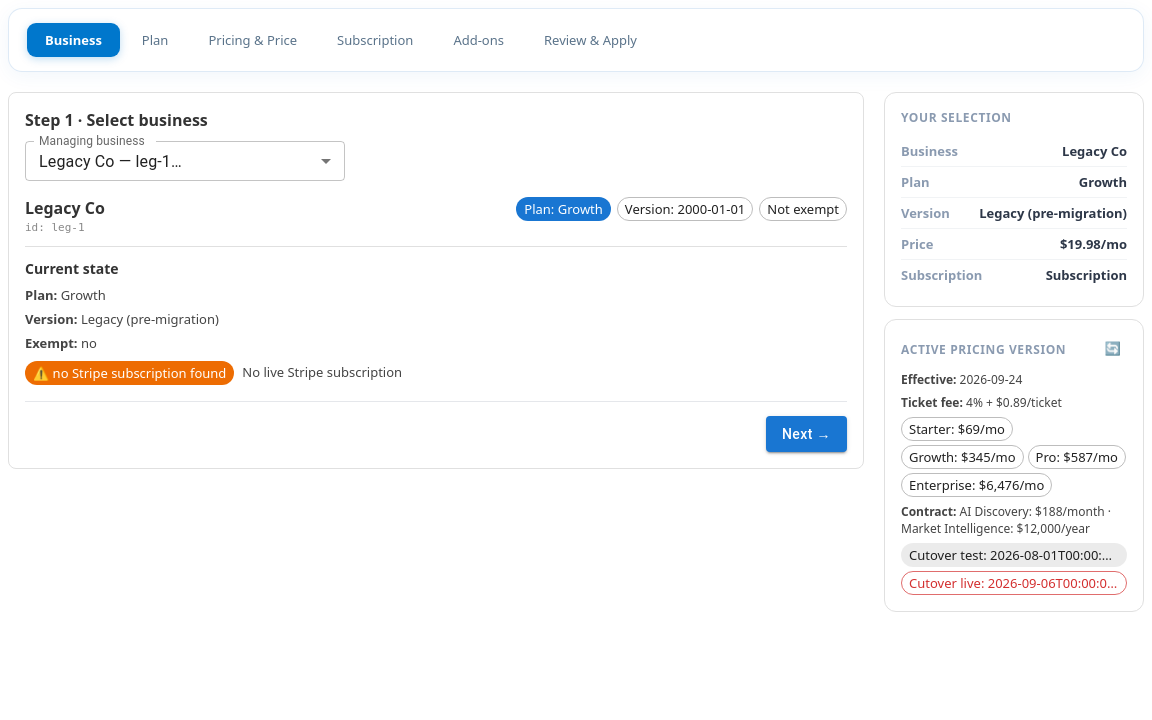
it: PricingConsole (guided stepped workflow) › Step 3 warns when moving a grandfathered (Legacy) customer to the New version
This screenshot has width=1152, height=720.
Click the button with test id "pc-next".
click(806, 434)  # box [766,416,847,452]
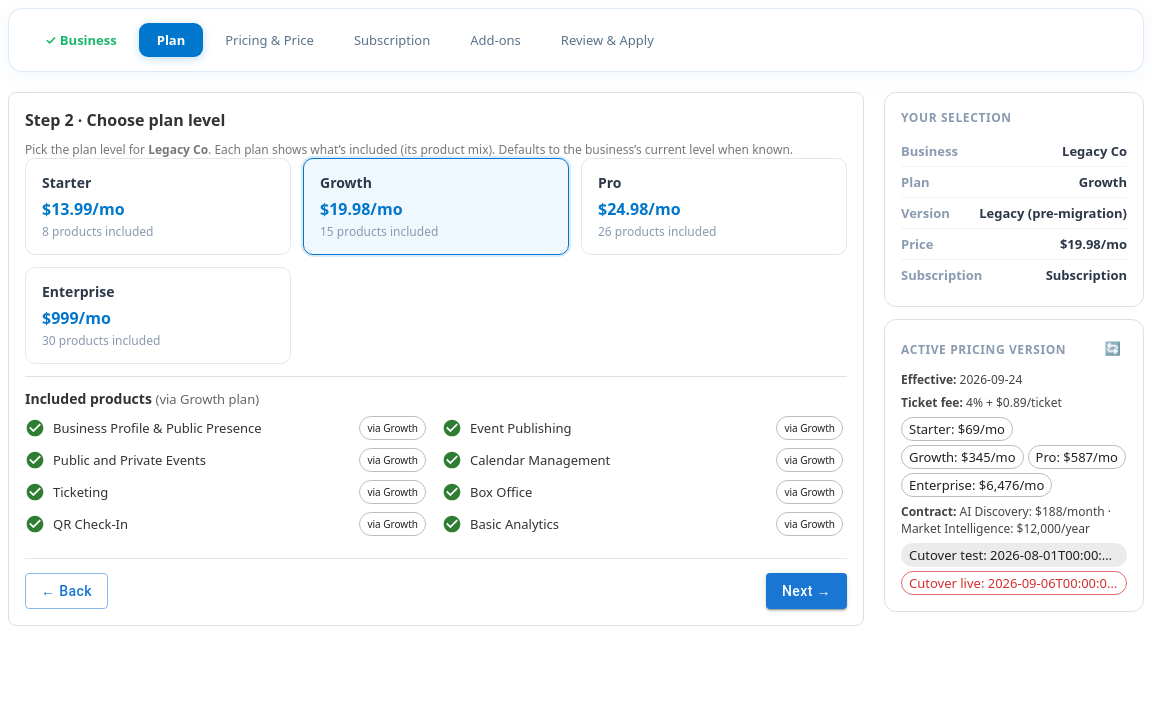
Click the button with test id "pc-next".
click(806, 591)  # box [766,572,847,609]
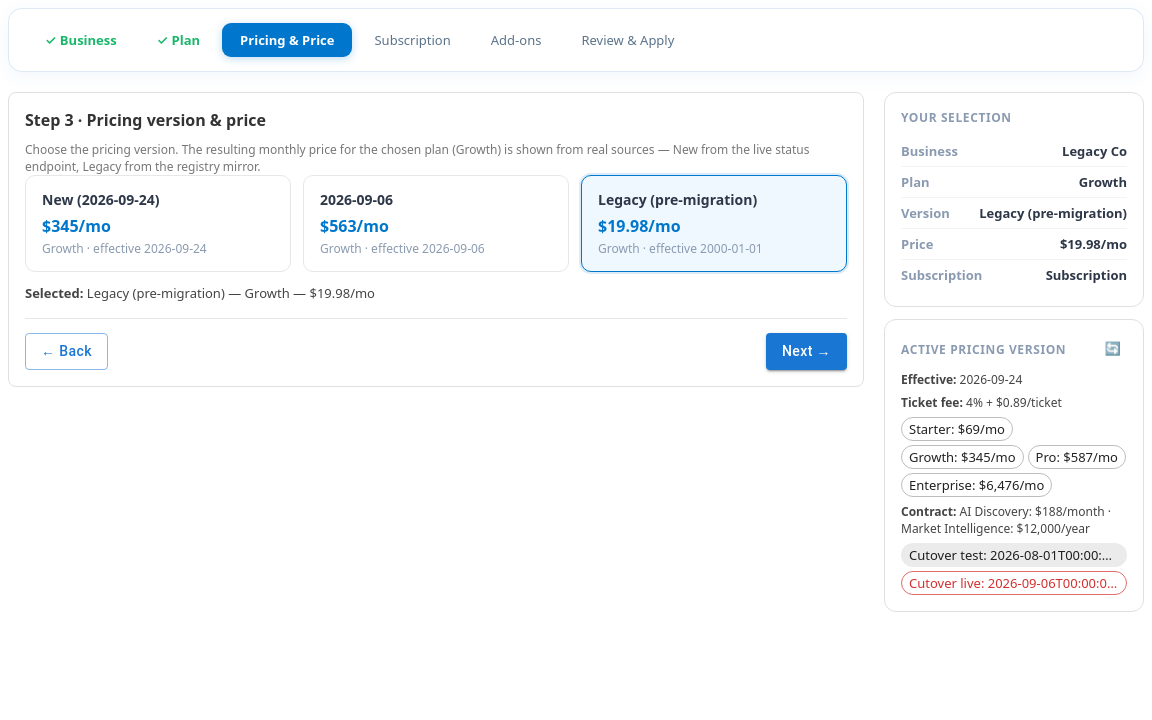
Click the button "New (2026-09-24) $345/mo Growth · effective 2026-09-24".
click(101, 200)  # box [25,175,291,272]
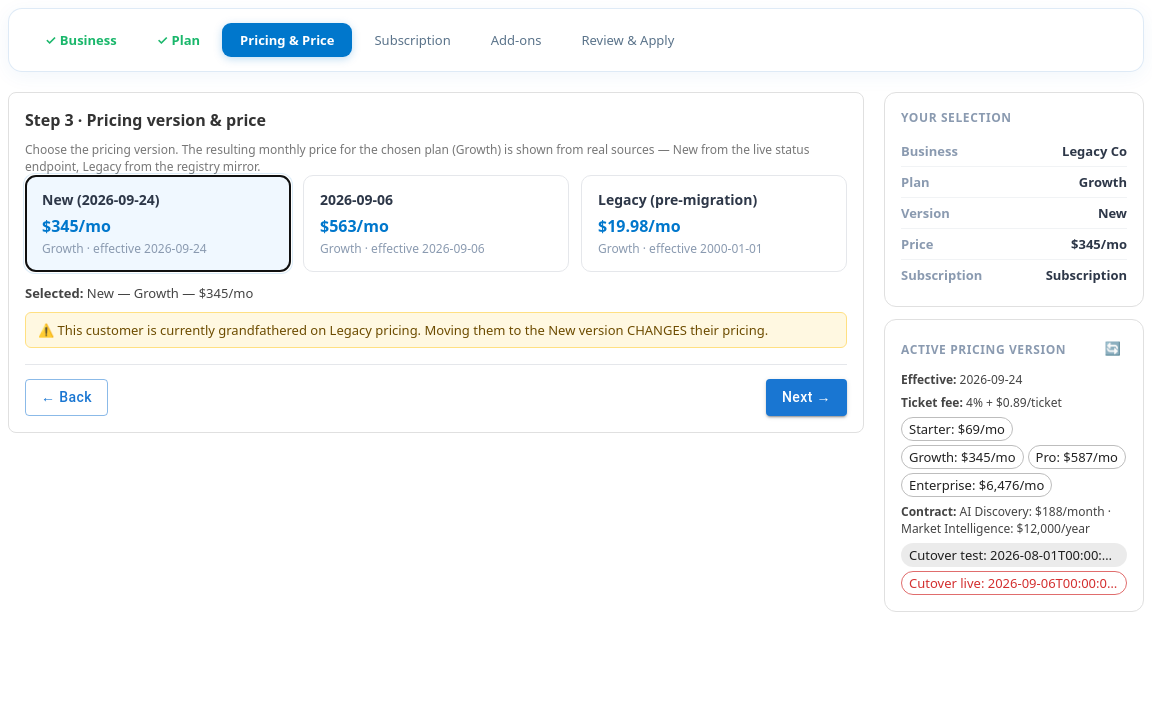
Check: the text with test id "grandfathered-warning" shows "grandfathered", box [38,321,768,339]
